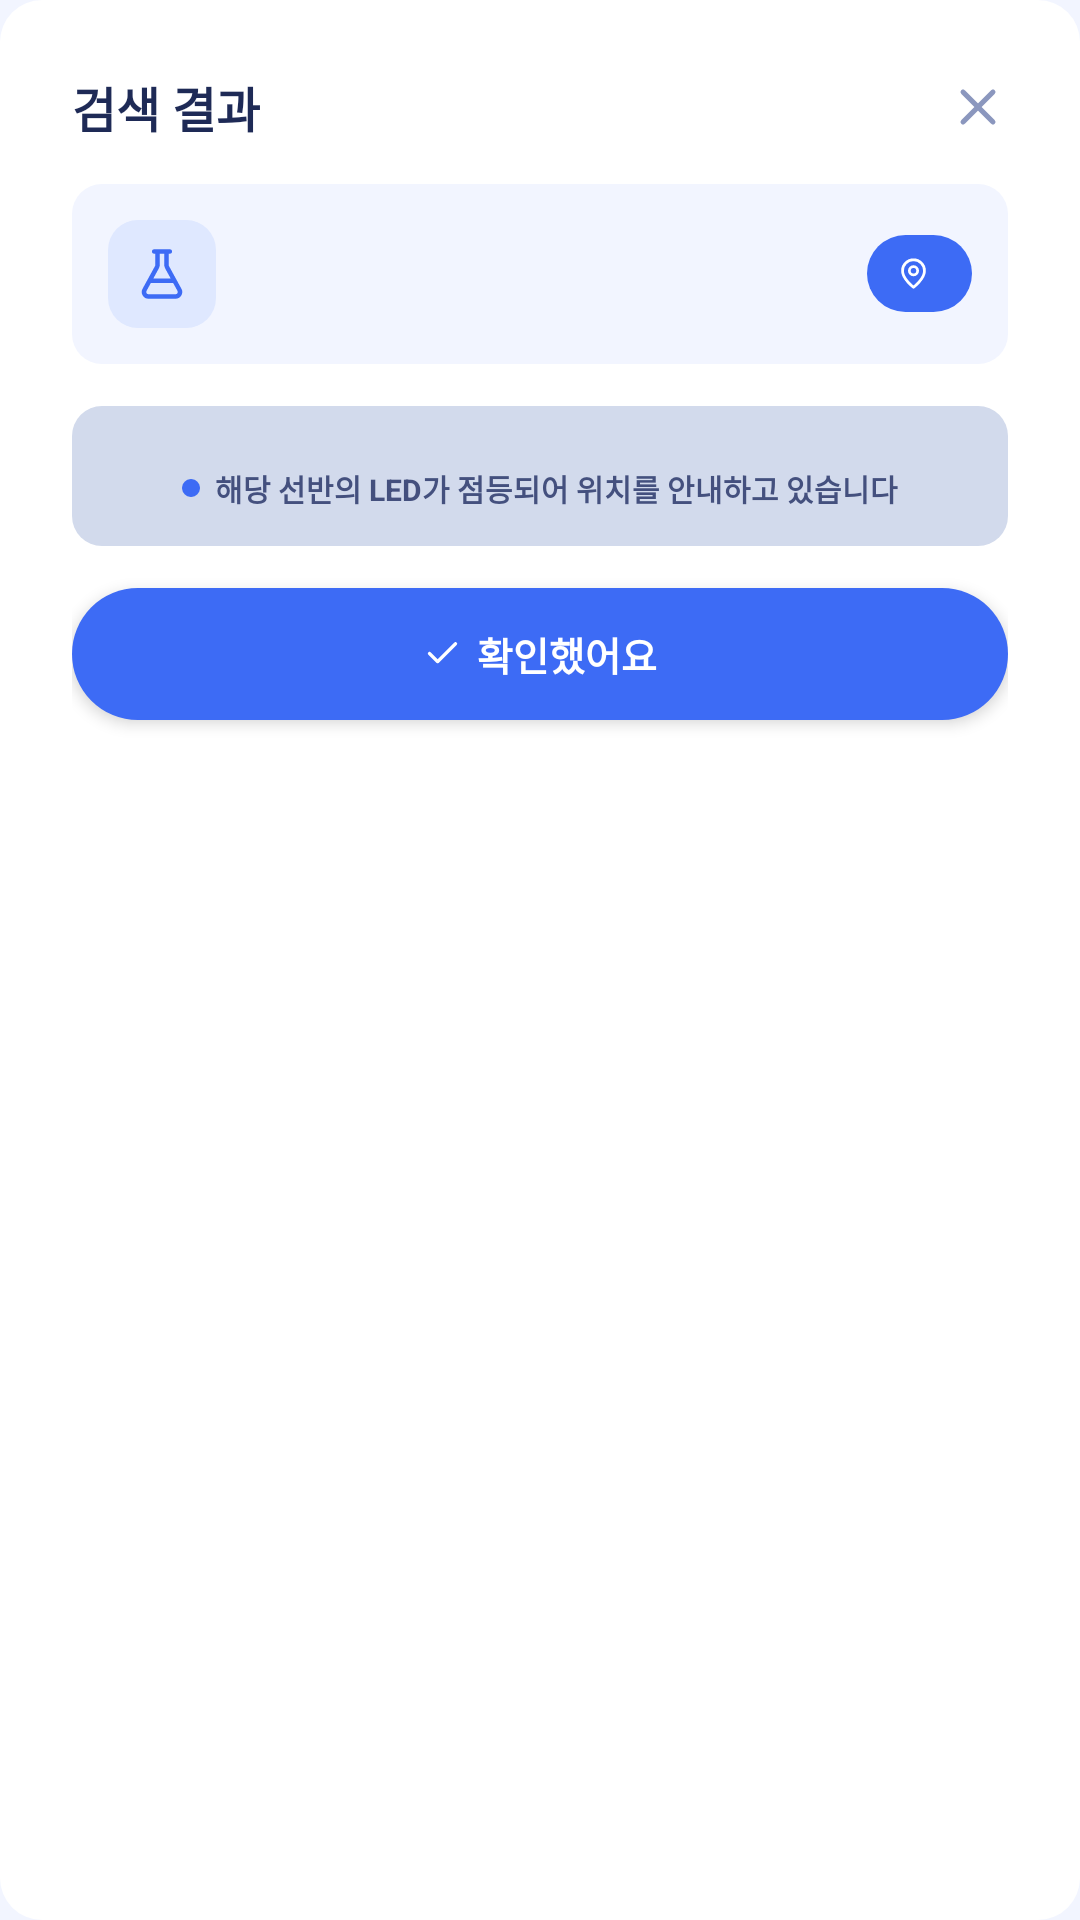

Icon click points for this 1080px x 1920px phone screenshot, format point (x, y):
닫기: point (978, 107)
시약: point (162, 274)
위치: point (913, 273)
